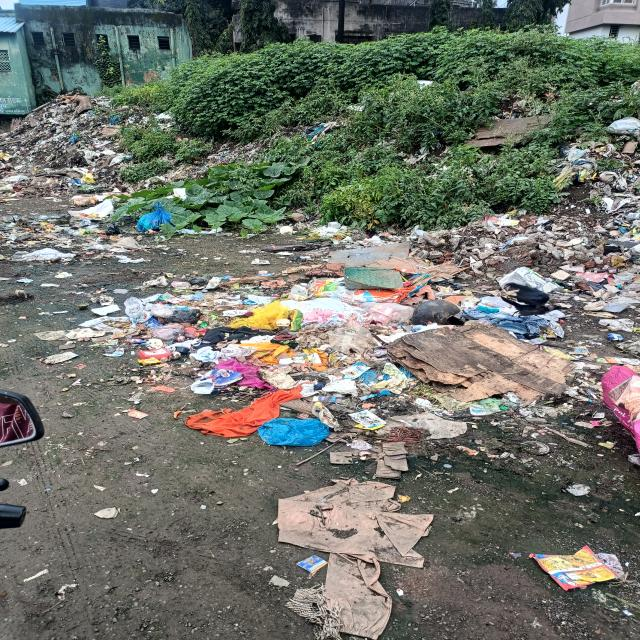garbage: (25, 109, 639, 549), (3, 93, 180, 265)
